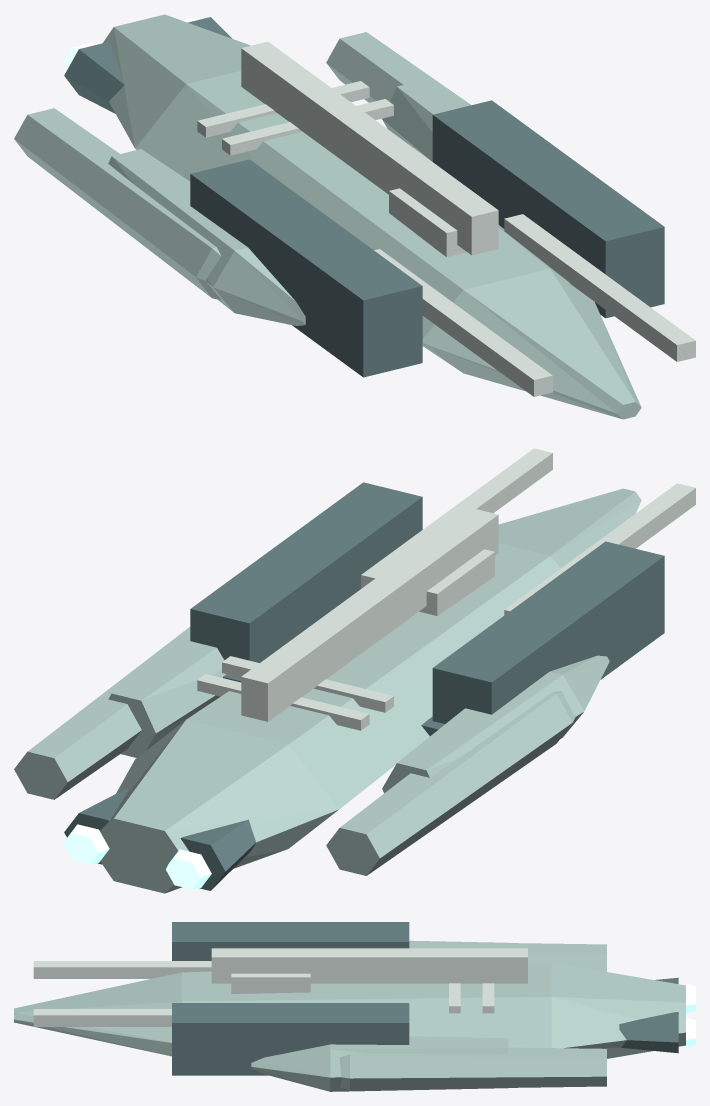
3 renders of one model, top to bottom at view 1: azimuth 30°, elevation 25°; view 2: azimuth 150°, elevation 25°; view 3: azimuth 270°, elevation 25°, orthographic. The views are drawn at different scales.
Bounding box in the file's own units: 2.72 × 0.9902 × 6.21.
